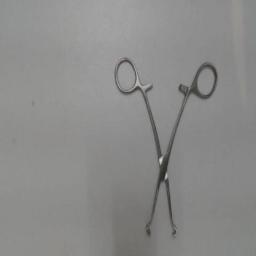Babcock Tissue Forceps: (110, 56, 220, 236)
